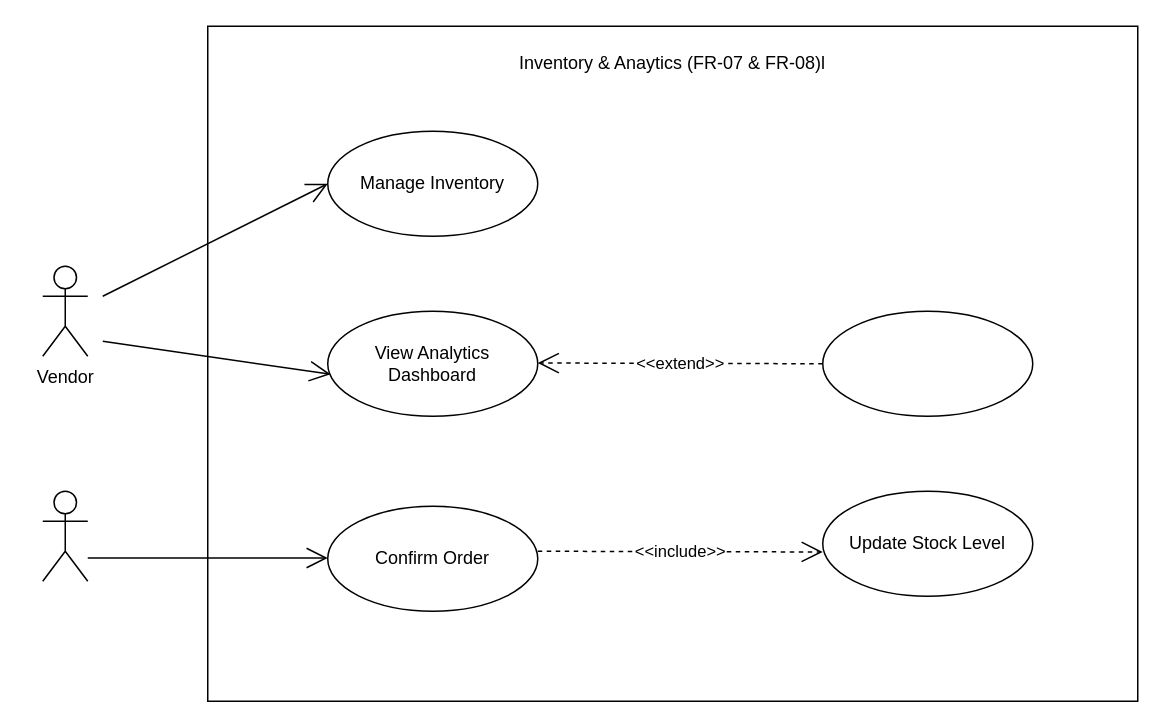
Some shapes in this 1164 by 728 pixel diagram are drawn without their labels. Each missing label, with the box of its shape:
Customer: (41, 490, 88, 581)
Filter Data by Date: (821, 310, 1033, 416)
